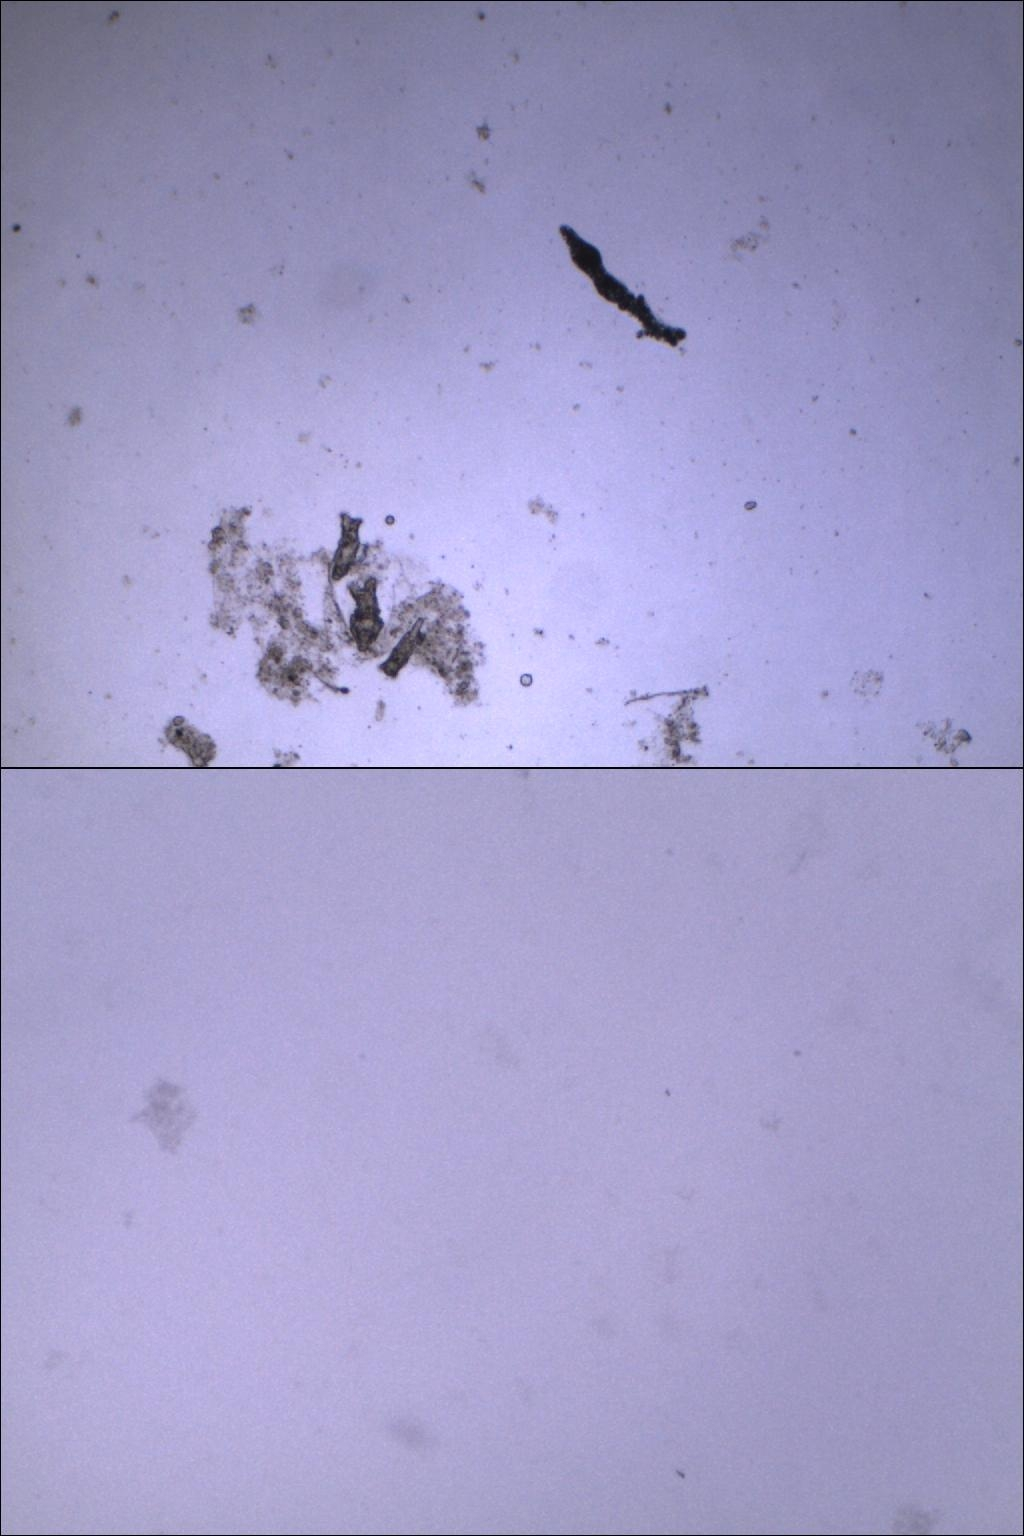N.Fowleri Amoeba: (117, 1069, 214, 1179)
Proteus Amoeba: (543, 211, 709, 363)
